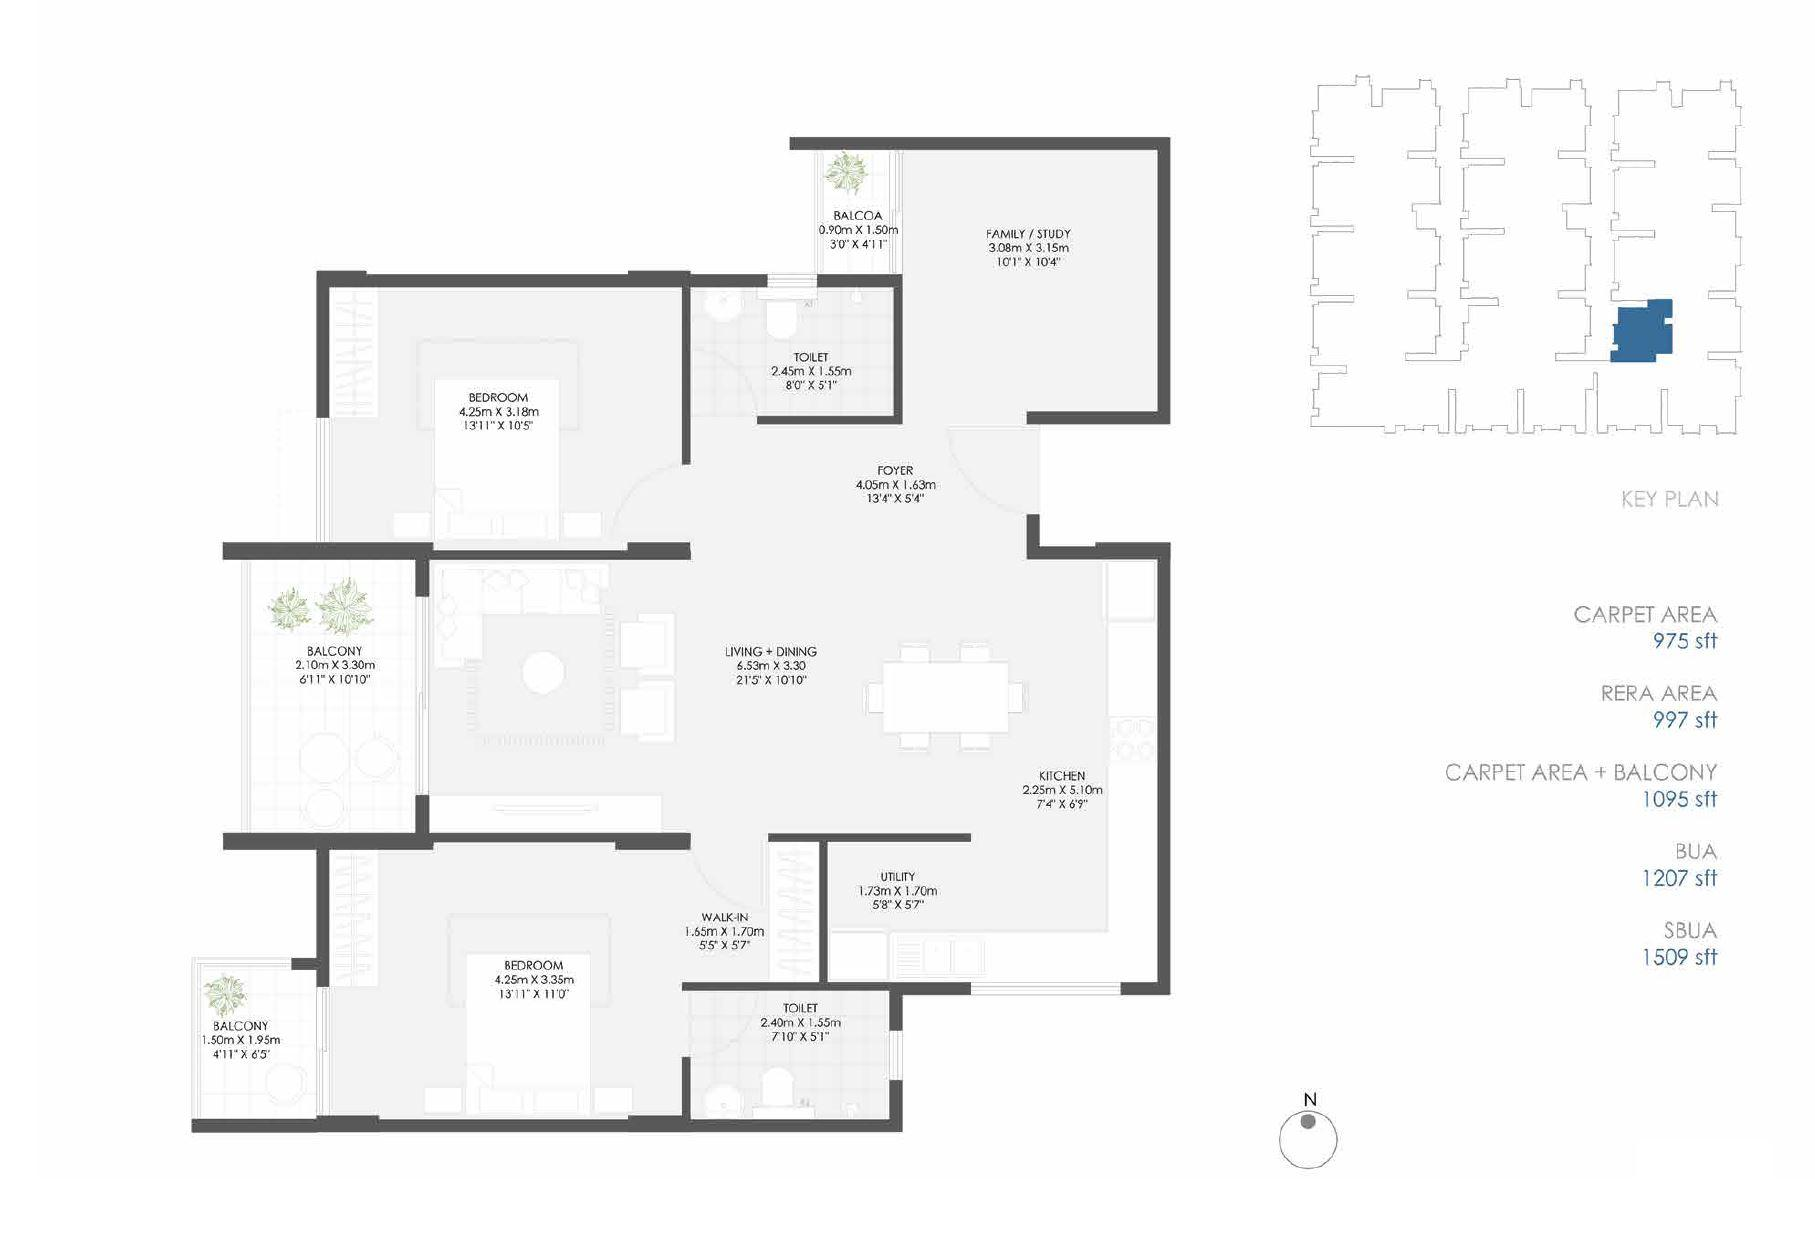Balcony: (245, 557, 418, 837)
Bed: (465, 953, 594, 1122), (430, 378, 559, 549)
Bedroom: (325, 847, 683, 1120), (325, 290, 683, 545)
Dining Room: (745, 560, 1059, 827)
Dining table: (850, 629, 1034, 762)
Foyer: (691, 423, 1032, 550)
Kitchen: (974, 551, 1159, 991)
Living Room: (418, 557, 734, 831)
Sofa: (437, 561, 607, 614), (430, 558, 487, 660), (615, 612, 674, 671), (622, 678, 672, 745)
Wardrobe: (330, 284, 383, 422), (328, 845, 381, 983), (767, 841, 818, 982)
balcoa: (194, 964, 313, 1117), (816, 146, 895, 272)
commode: (757, 1063, 800, 1109), (765, 302, 800, 341)
door: (941, 423, 1040, 516), (605, 454, 690, 545), (408, 596, 443, 800), (690, 829, 772, 910), (685, 987, 772, 1059), (696, 342, 759, 425)
fridge: (1109, 563, 1161, 622)
kitchen-slab: (1109, 623, 1157, 983), (888, 933, 1157, 984)
sink: (896, 935, 990, 983), (698, 1080, 741, 1125), (695, 290, 746, 325)
stove: (1106, 718, 1159, 772)
study: (901, 152, 1157, 409)
toilet: (694, 283, 895, 416), (688, 989, 892, 1120)
tv: (474, 797, 615, 833)
utility: (828, 840, 968, 978)
walkin: (679, 838, 816, 982)
washing-machine: (828, 929, 896, 982)
